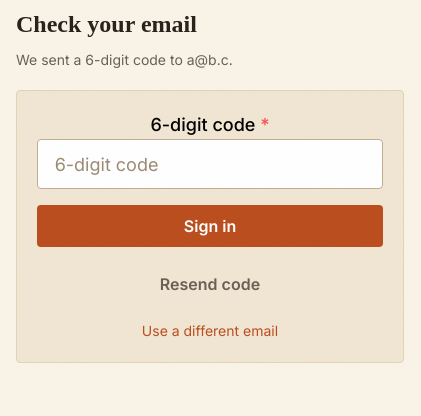
Test: Code page honest errors (BA-DS-007, TICKET-024) › resends a code and shows the countdown
The image size is (421, 416).
Click the button "Resend code" at x=210, y=284, box [37,263,383,305]
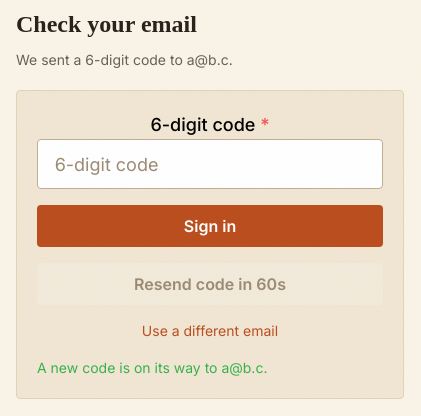
Expected: the message shows "A new code is on its way", [37,359,267,376]
Expected: the button "Resend code in 60s" is disabled, [37,263,383,305]
